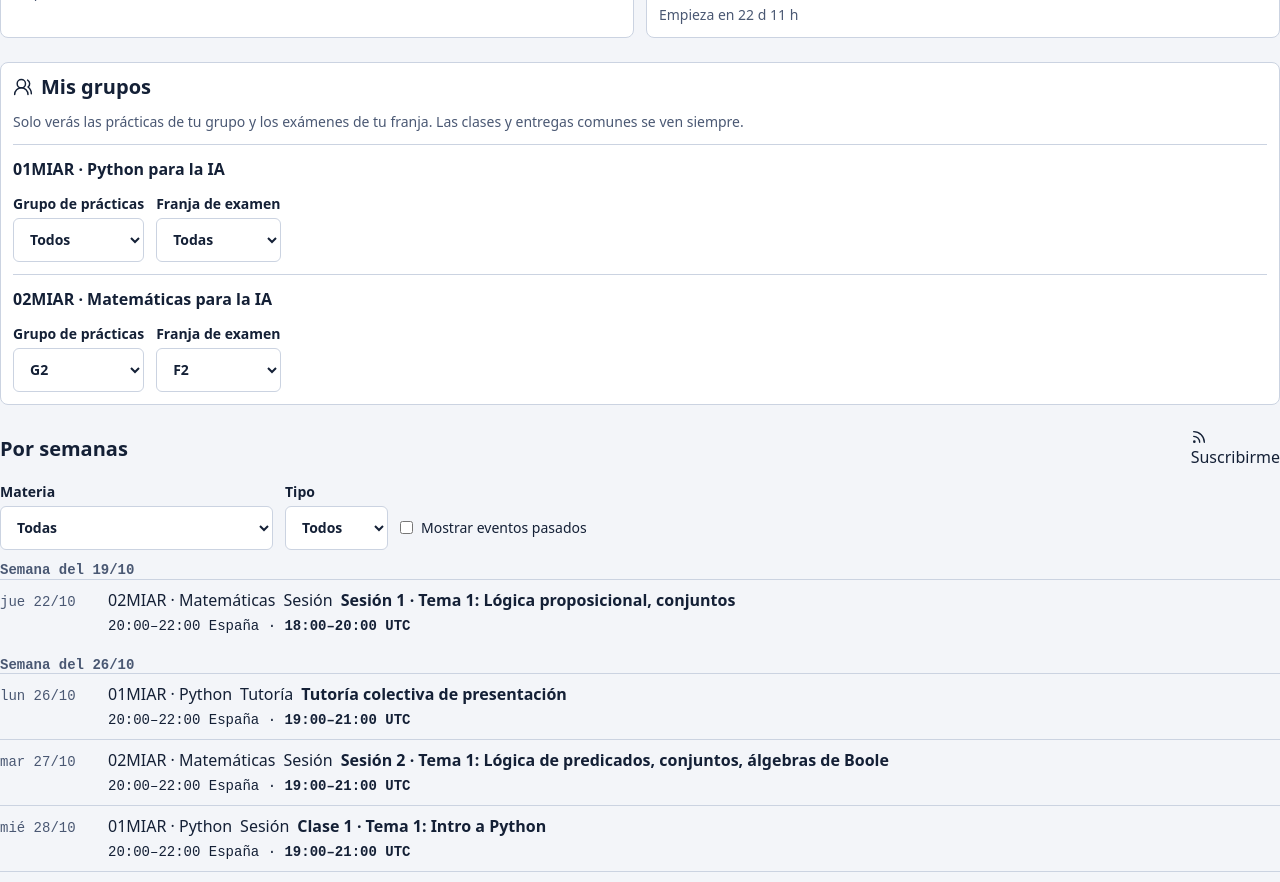
CalendarPage › «Suscribirme» usa los nombres de calendario.json (con clave)
The image size is (1280, 882).
(page scrolled)
Click the button "Suscribirme". click: {"x": 1235, "y": 449}
box: [1191, 429, 1279, 469]
(page scrolled)
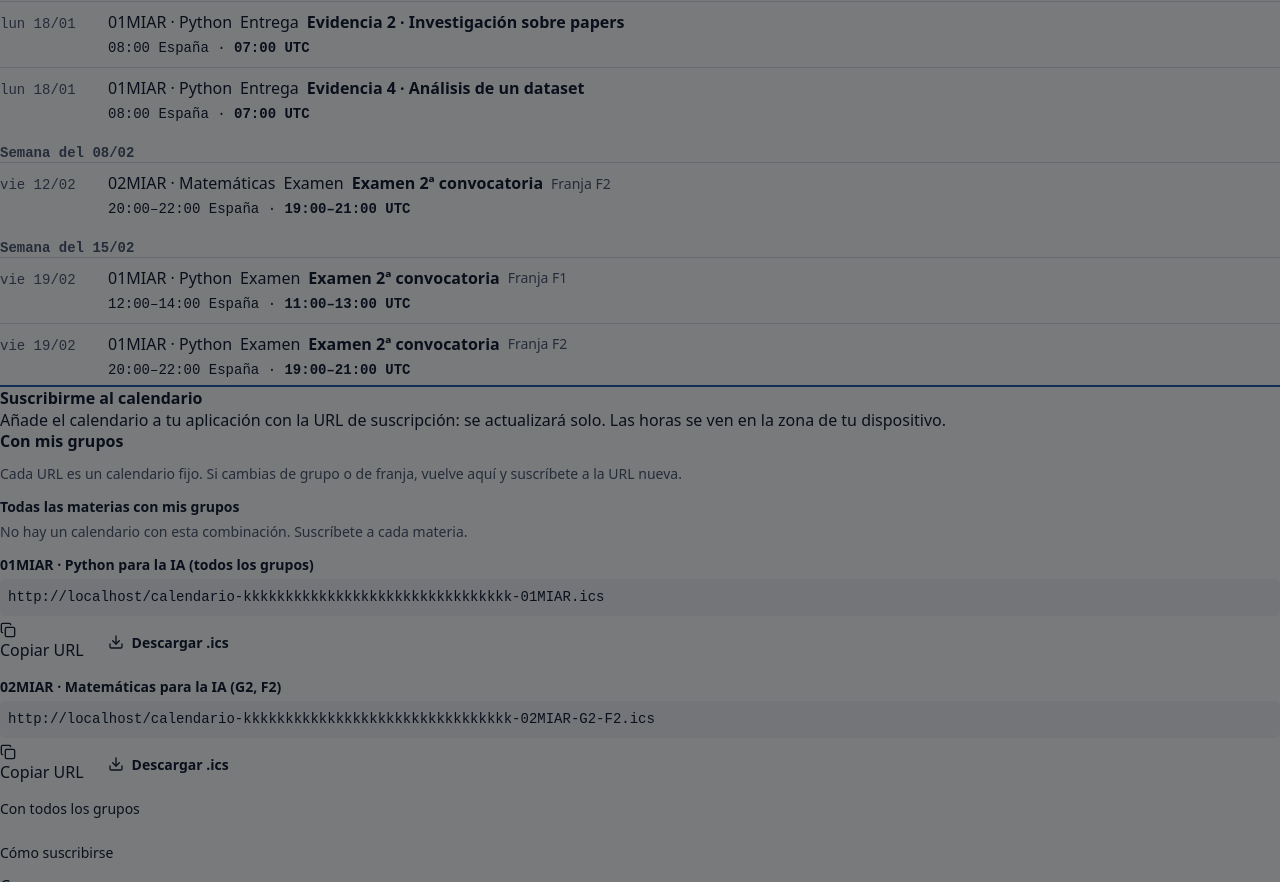
Result: the text "No hay un calendario con esta combinación. Suscríbete a cada materia." is shown at [0, 522, 468, 541]
